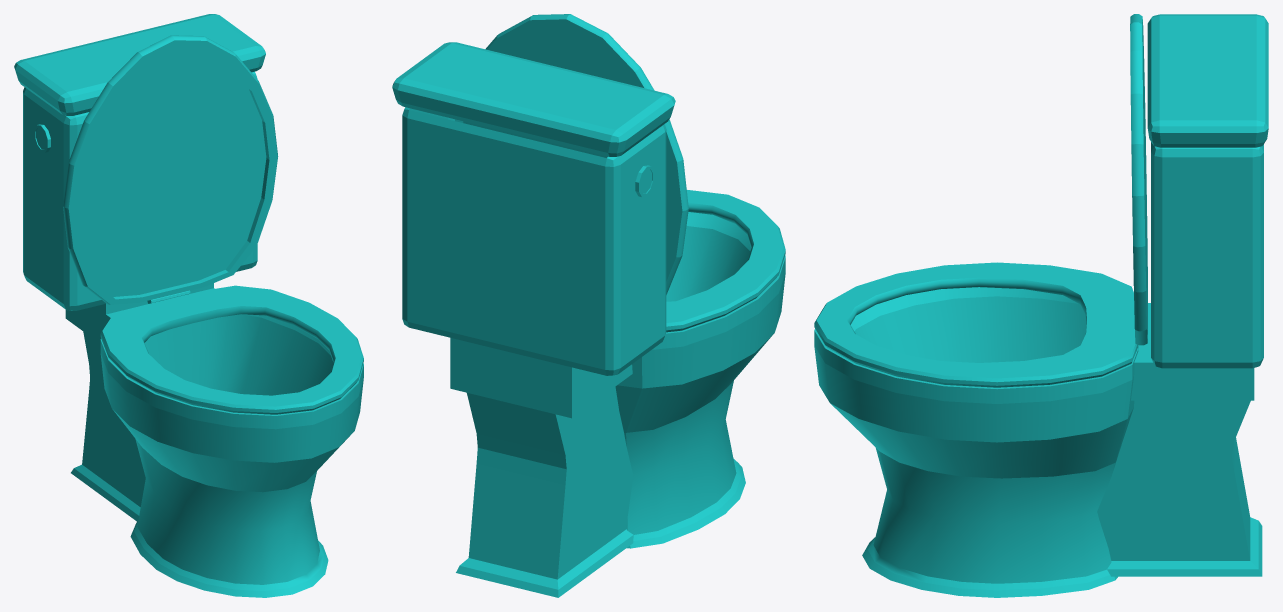
The model's file is Inodoro.fbx.
3 renders of one model, left to right at view 1: azimuth 30°, elevation 25°; view 2: azimuth 150°, elevation 25°; view 3: azimuth 270°, elevation 25°, orthographic. The views are drawn at different scales.
Visible parts, largest first — view 1: Inodoro; view 2: Inodoro; view 3: Inodoro.
Boxes of the visible parts, x1,y1,x2,y2 form: Inodoro: (14,14,363,597); Inodoro: (392,14,785,597); Inodoro: (814,14,1268,597).
Size of the model in its own units: 0.7347 by 1.55 by 1.2.
